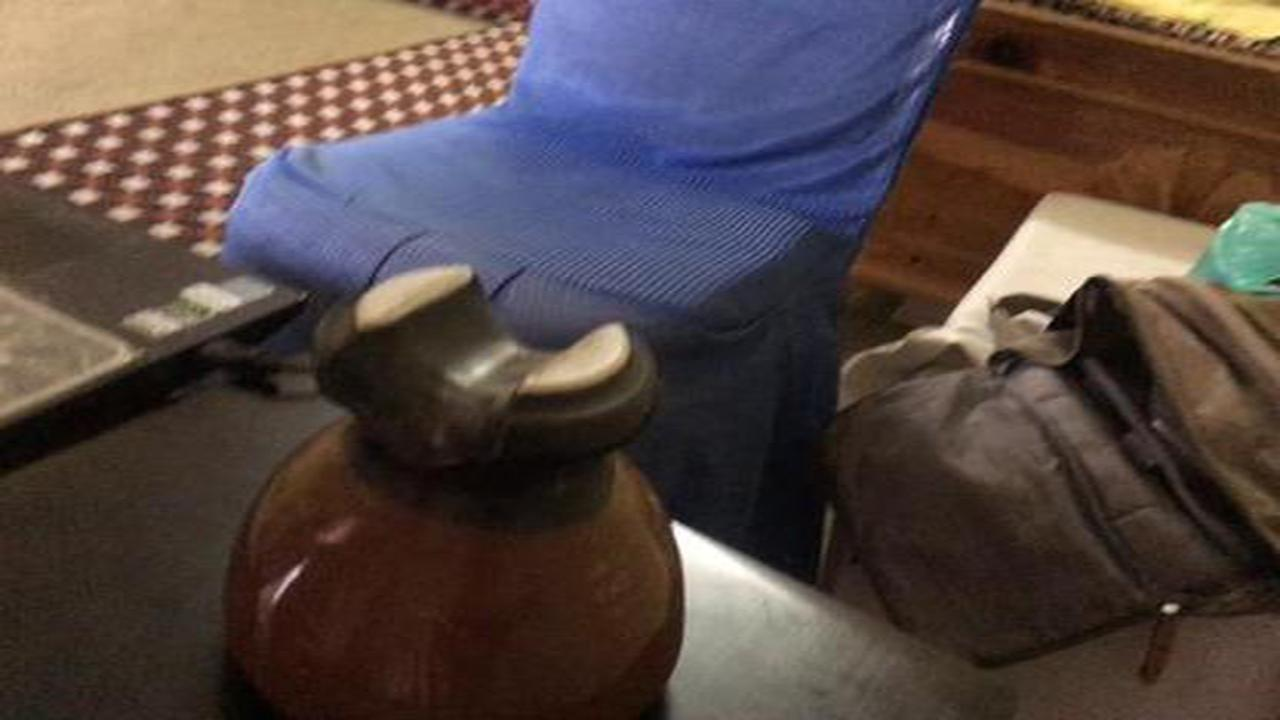insulator_pin: (210, 250, 693, 717)
